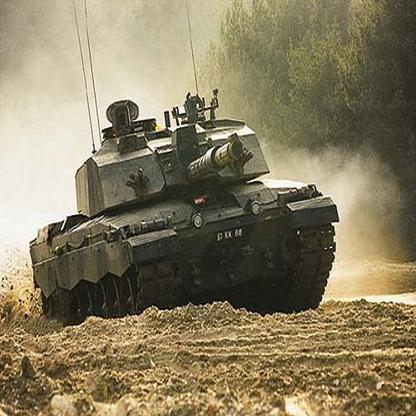Tank: (27, 88, 344, 328)
